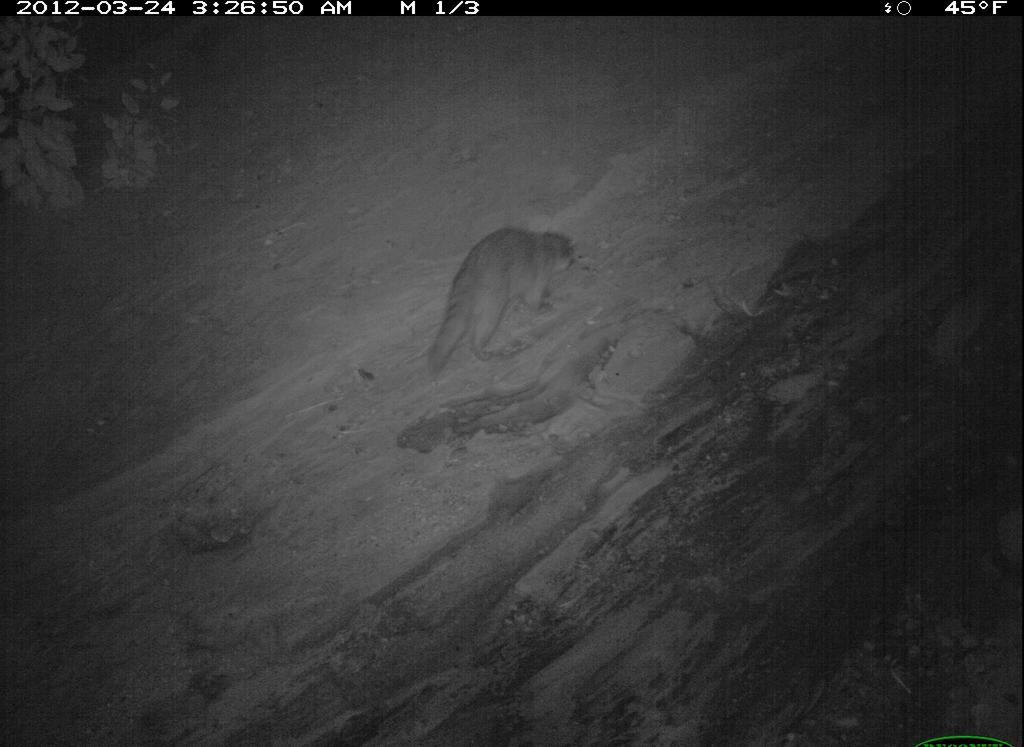raccoon: (847, 440, 1024, 747)
